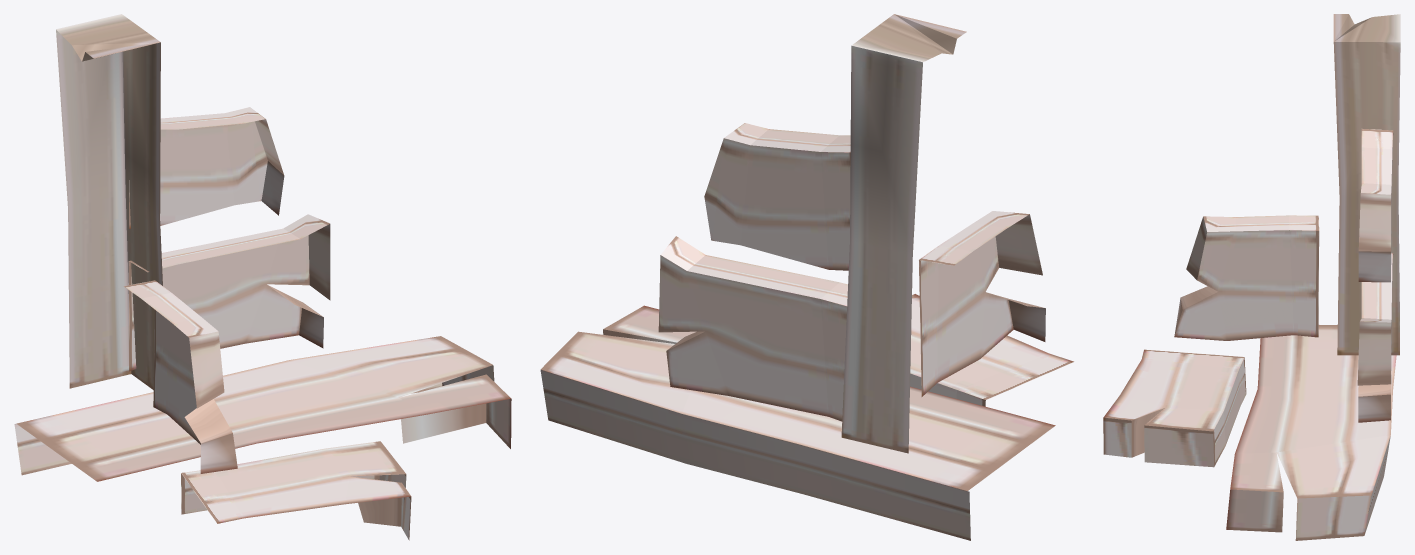
File: ruin_wood_2.fbx
3 renders of one model, left to right at view 1: azimuth 30°, elevation 25°; view 2: azimuth 150°, elevation 25°; view 3: azimuth 270°, elevation 25°, orthographic. The views are drawn at different scales.
Parts seen in each view (by area): view 1: RuinWood2; view 2: RuinWood2; view 3: RuinWood2.
Boxes of the visible parts, box(x1,y1,x2,y2) form: RuinWood2: box(14, 14, 511, 540); RuinWood2: box(540, 14, 1073, 540); RuinWood2: box(1103, 14, 1400, 540).
Size of the model in its own units: 1.17 by 1.15 by 0.8383.
1 material, 1 textured.
